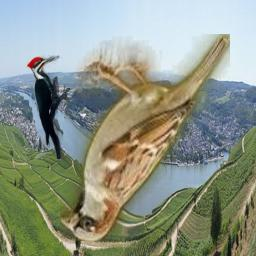Sparrow: (60, 34, 230, 241)
Woodpecker: (27, 54, 70, 159)
